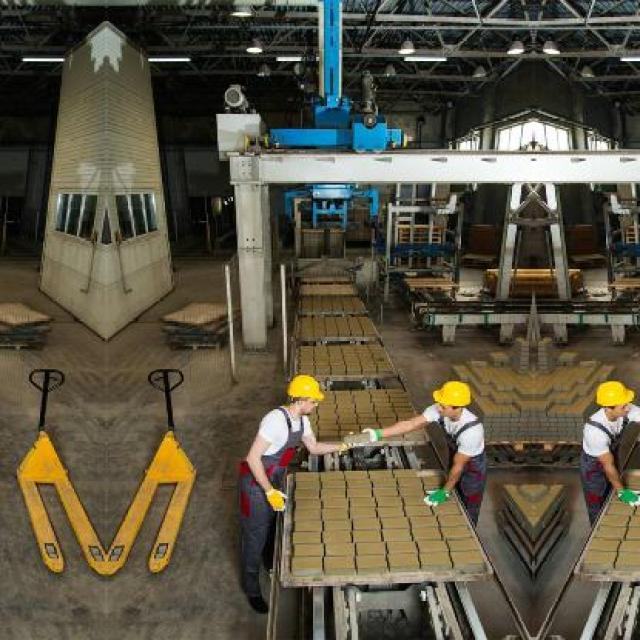helmet: (593, 377, 635, 420), (432, 377, 473, 420), (286, 374, 323, 417)
